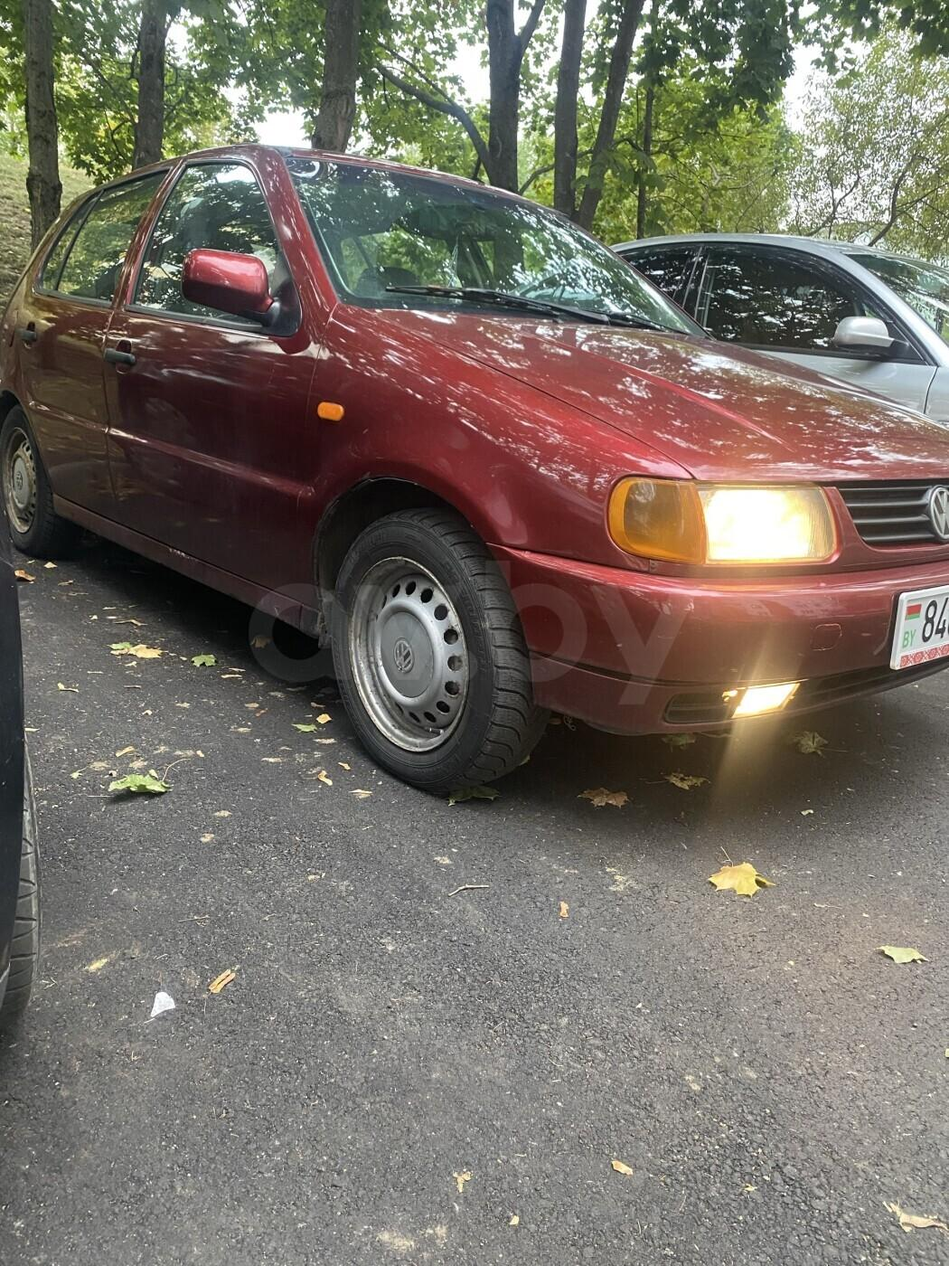Polo_1994-2002: (0, 142, 948, 839)
